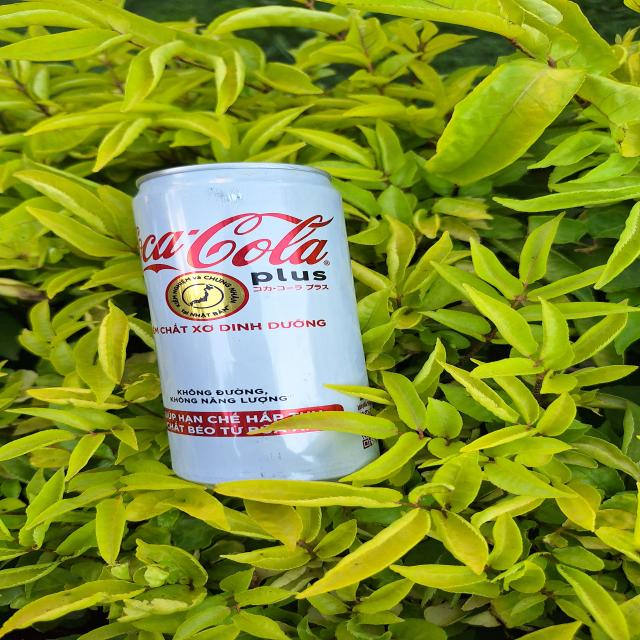Coca Cola Plus: (128, 160, 390, 486)
